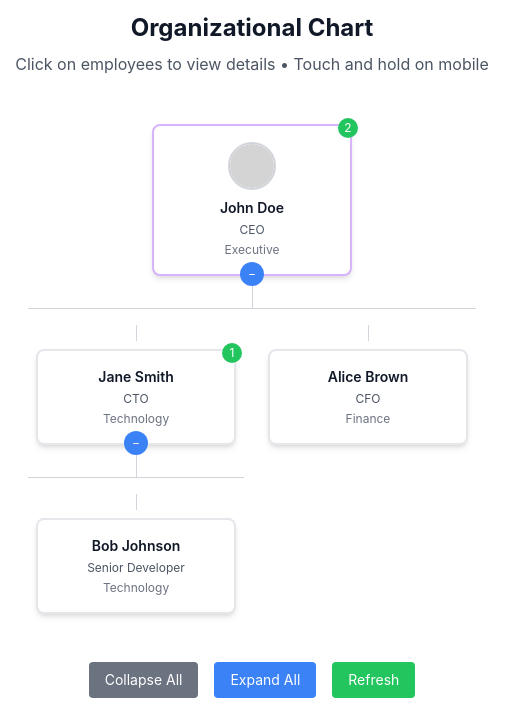
Test: OrgChart Component › Expand/Collapse Functionality › expands all nodes when Expand All button is clicked
# First collapse all
Click the button "Collapse All" at (144, 680), box x1=89 y1=662 x2=198 y2=698
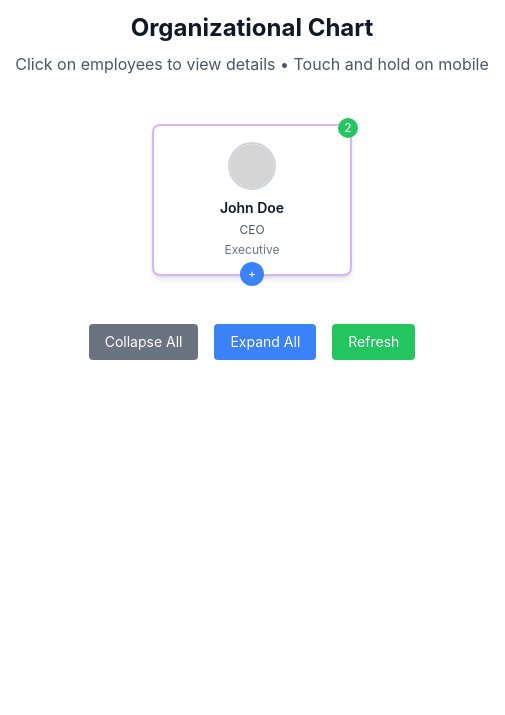
Expected: the button "Jane Smith" is gone
# Then expand all
Click the button "Expand All" at (265, 342), box x1=214 y1=324 x2=316 y2=360
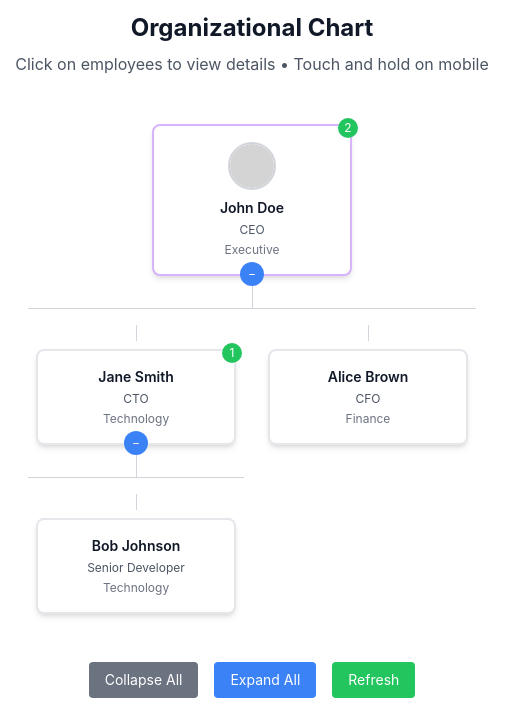
Expected: the heading "Jane Smith" is shown, x1=98 y1=368 x2=174 y2=385
Expected: the heading "Alice Brown" is shown, x1=328 y1=368 x2=408 y2=385
Expected: the heading "Bob Johnson" is shown, x1=92 y1=537 x2=180 y2=554
